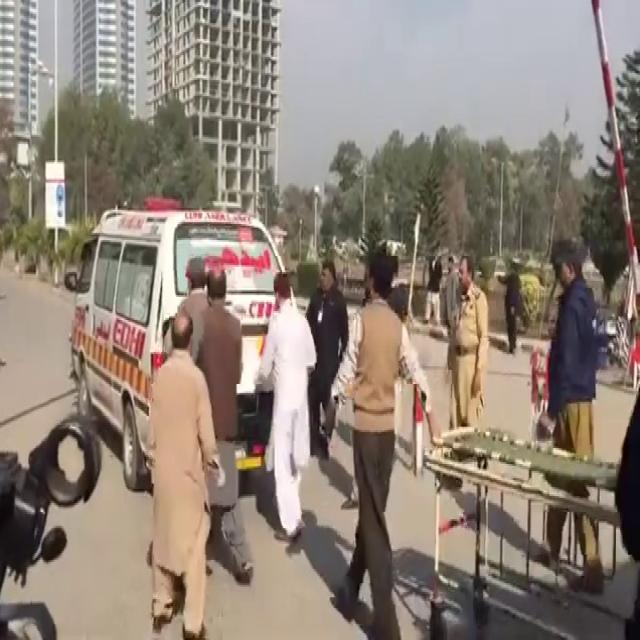ambulance: (79, 224, 302, 466)
